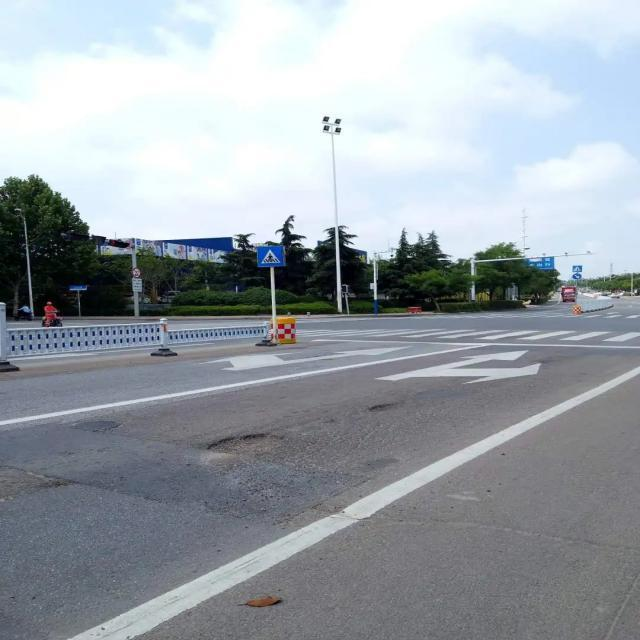Buraco: (205, 431, 288, 456), (366, 401, 400, 414)
